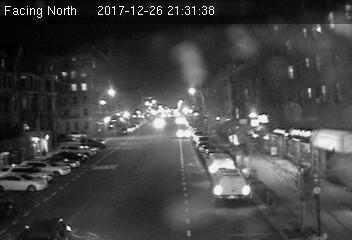car: (175, 128, 190, 138)
truck: (212, 169, 250, 203)
